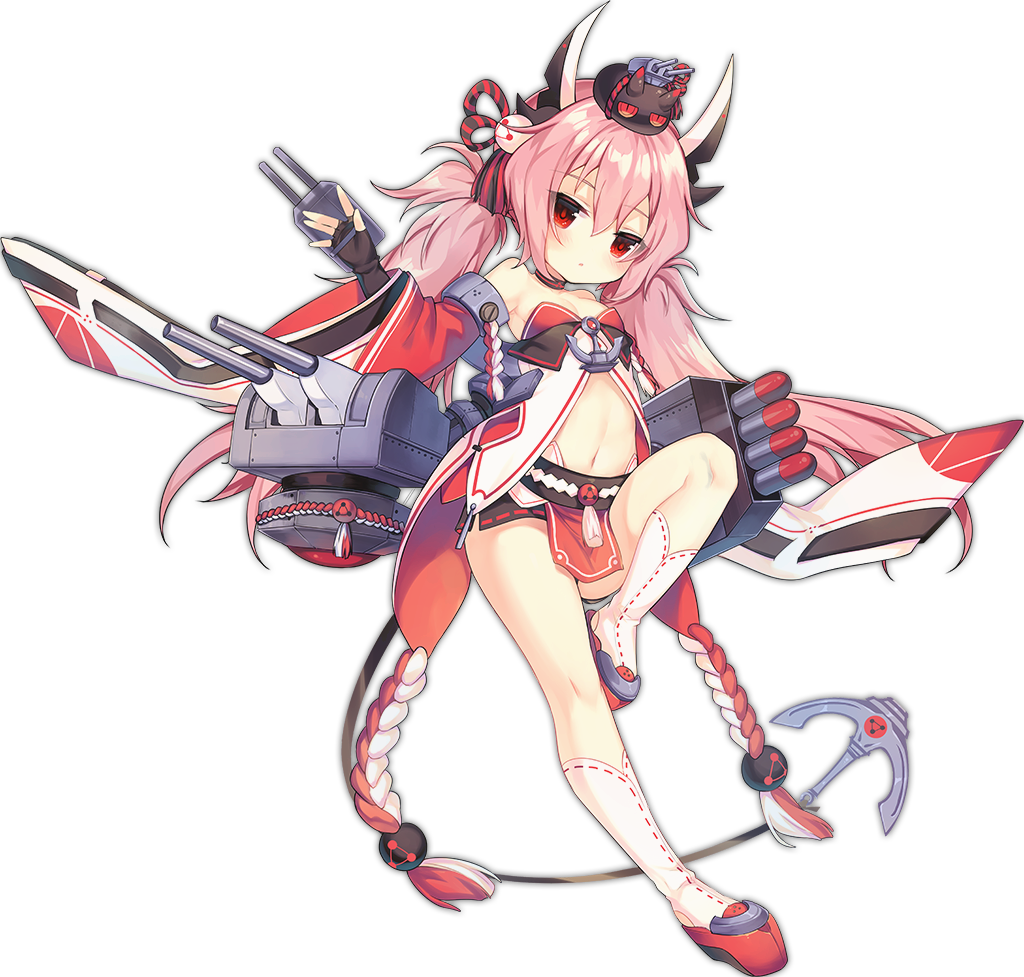person: (311, 63, 800, 884)
